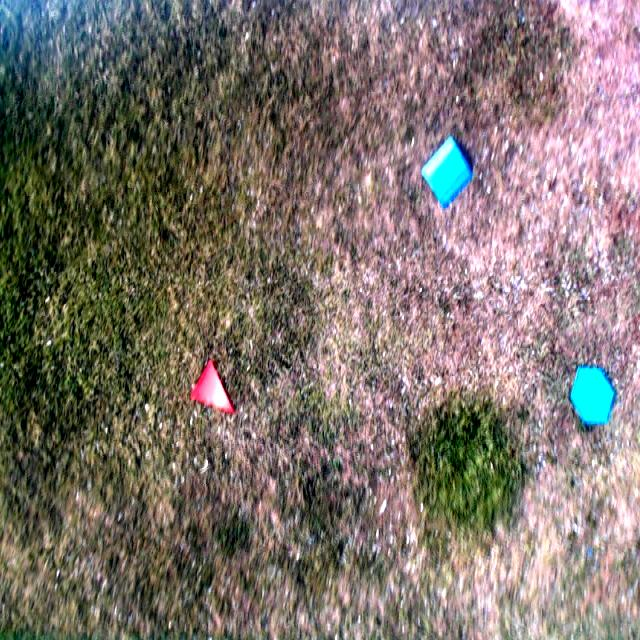blue_hexagon: (570, 364, 615, 427)
blue_square: (423, 132, 471, 210)
red_triangle: (191, 361, 235, 416)
